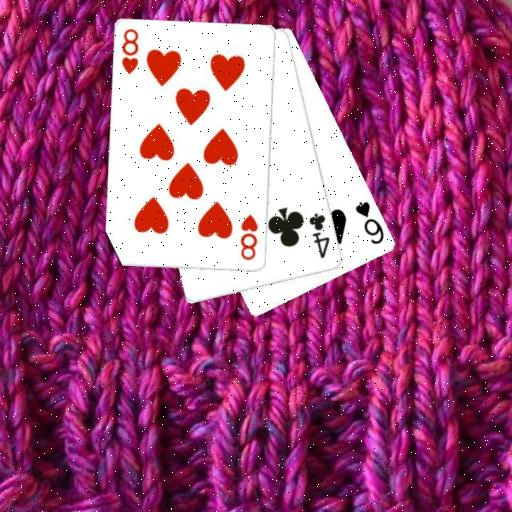4C: (306, 210, 332, 260)
6S: (352, 198, 386, 246)
8H: (238, 212, 260, 262), (119, 26, 141, 76)
